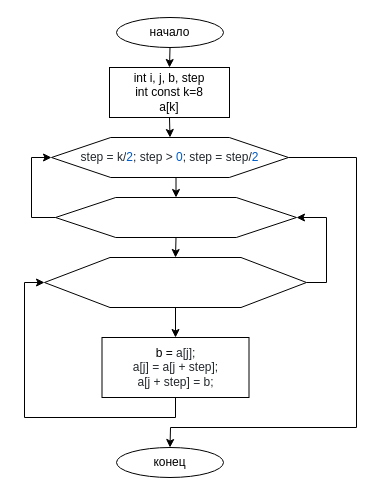
This 382x495 diagram has some shape labels left out. Each missing label, with the centre of its shape:
"i = step; i < k; i++" goes at (x=175, y=217).
"j = i - step; j >= 0 && a[j] > a[j + step]; j--" goes at (x=175, y=282).
